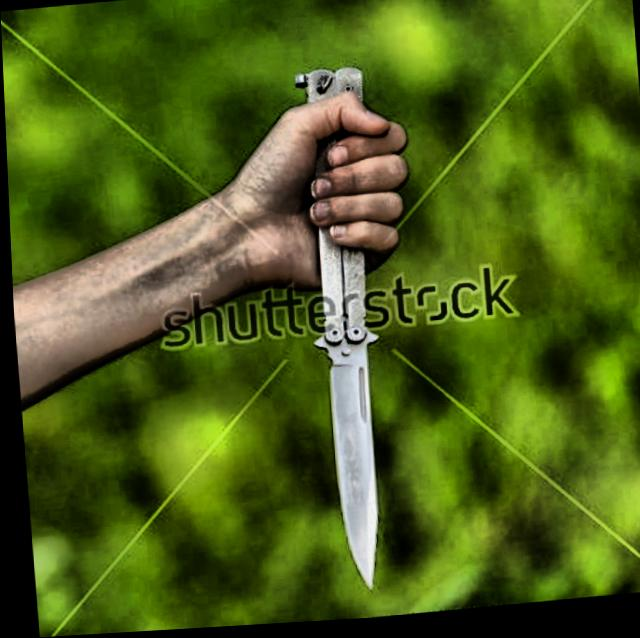knife: (266, 111, 439, 607)
